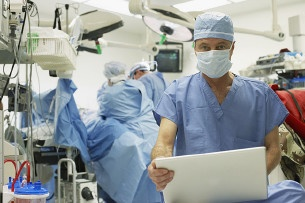Mask: (195, 39, 235, 79)
